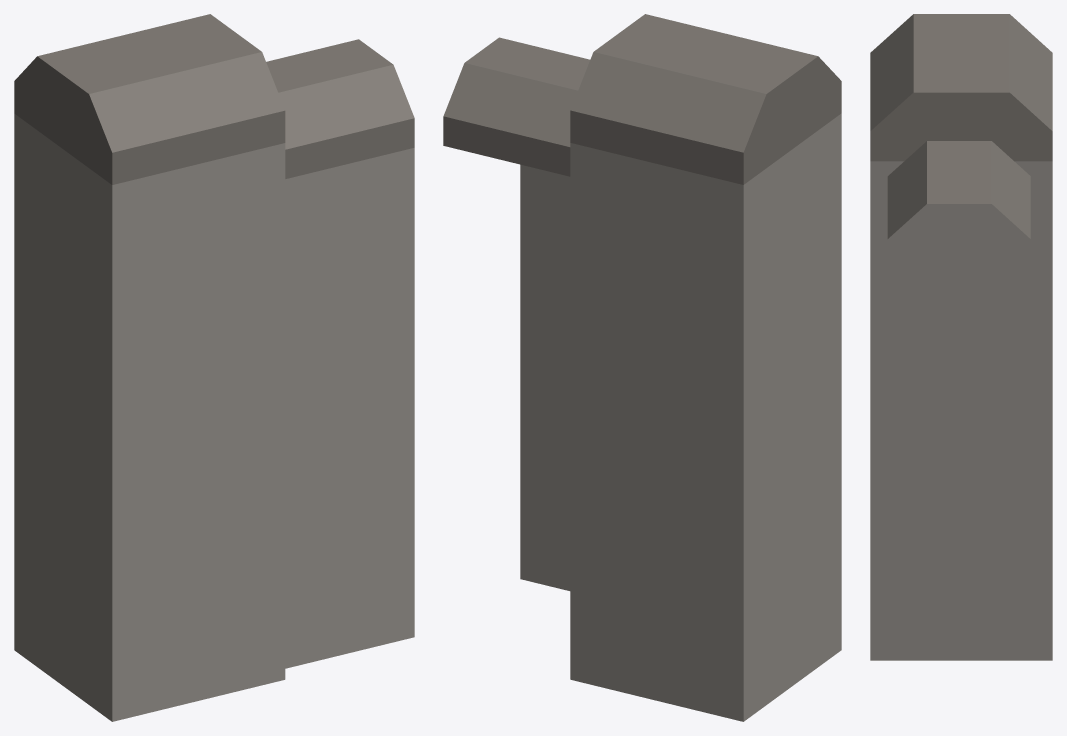
Rendered from Base Wall Top 01 End 02.FBX.
The picture shows the model from 3 angles, left to right: view 1: azimuth 30°, elevation 25°; view 2: azimuth 150°, elevation 25°; view 3: azimuth 270°, elevation 25°; orthographic projection. The views are drawn at different scales.
Visible parts, largest first — view 1: Base Wall Top 01 End 02; view 2: Base Wall Top 01 End 02; view 3: Base Wall Top 01 End 02.
Boxes of the visible parts, x1,y1,x2,y2 form: Base Wall Top 01 End 02: (14,14,414,721); Base Wall Top 01 End 02: (443,14,841,721); Base Wall Top 01 End 02: (870,14,1052,660).
Bounding box in the file's own units: 69.48 × 130 × 37.81.
Materials: 1 (1 with a texture image).
